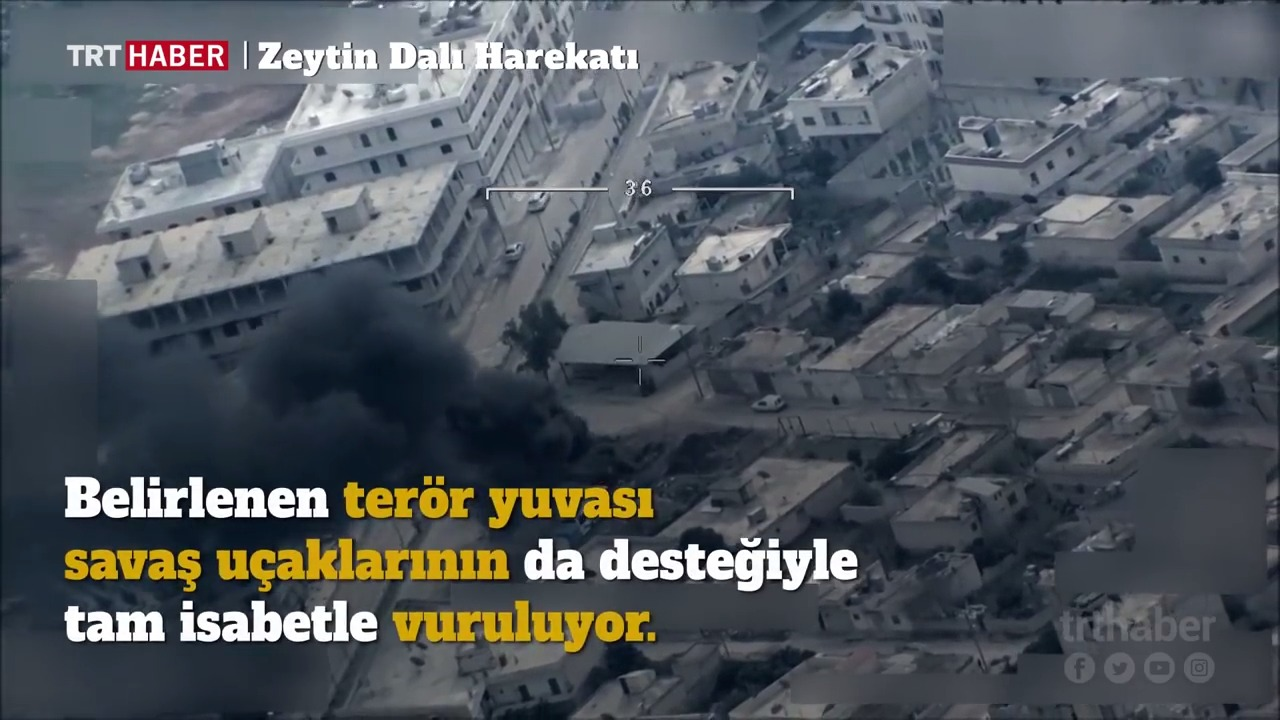arac: (748, 390, 789, 415), (493, 240, 529, 265)
